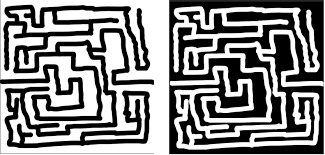maze: (167, 1, 325, 154), (1, 1, 153, 153)
